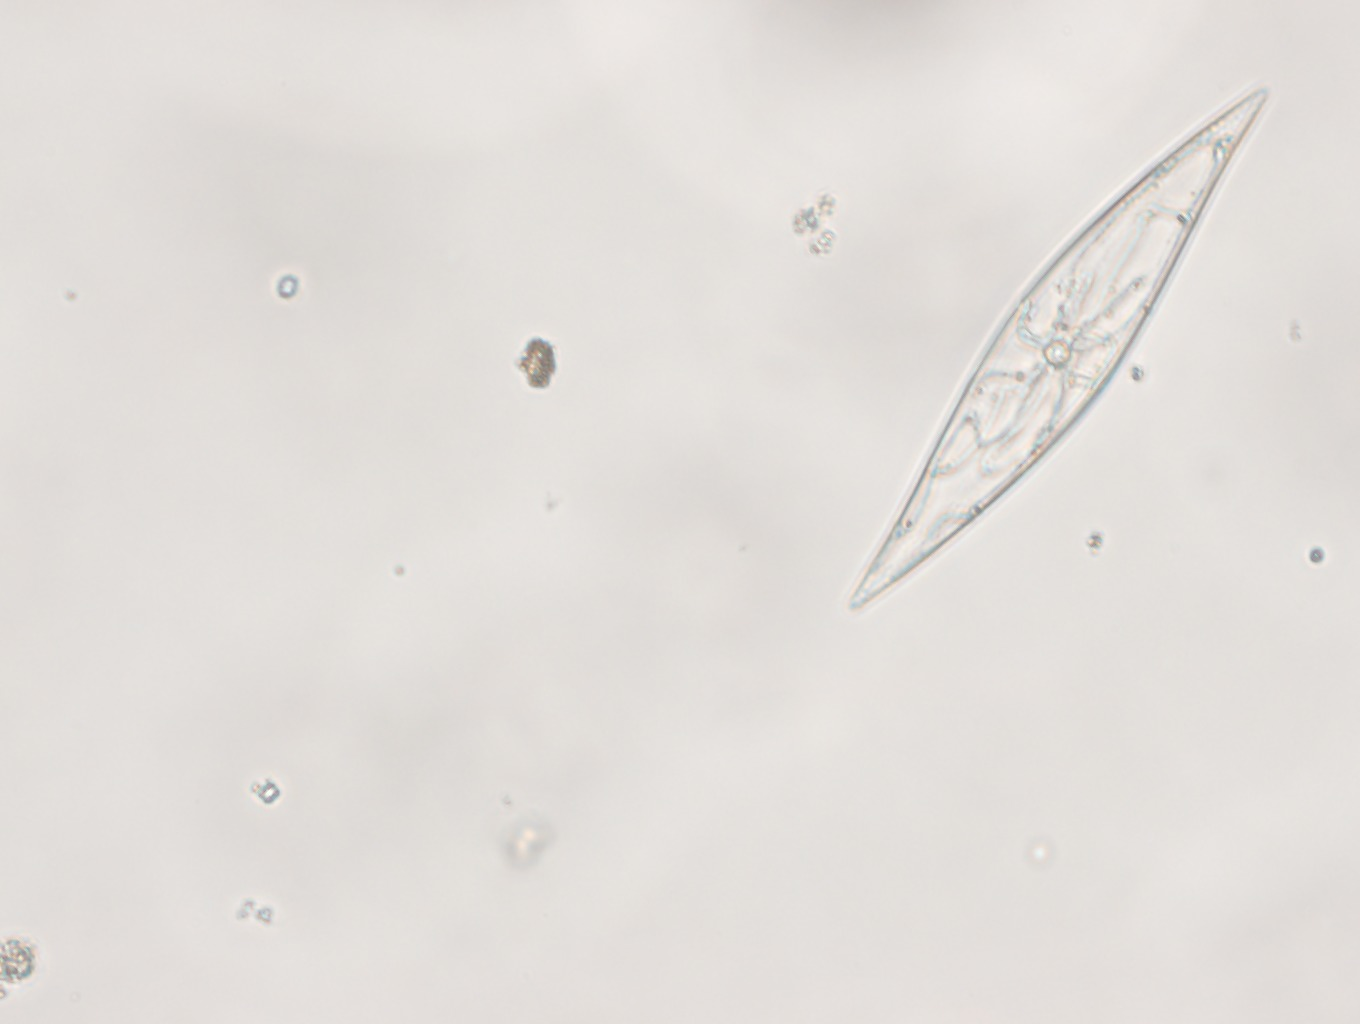pleurosigma pelagicum: (851, 86, 1268, 612)
